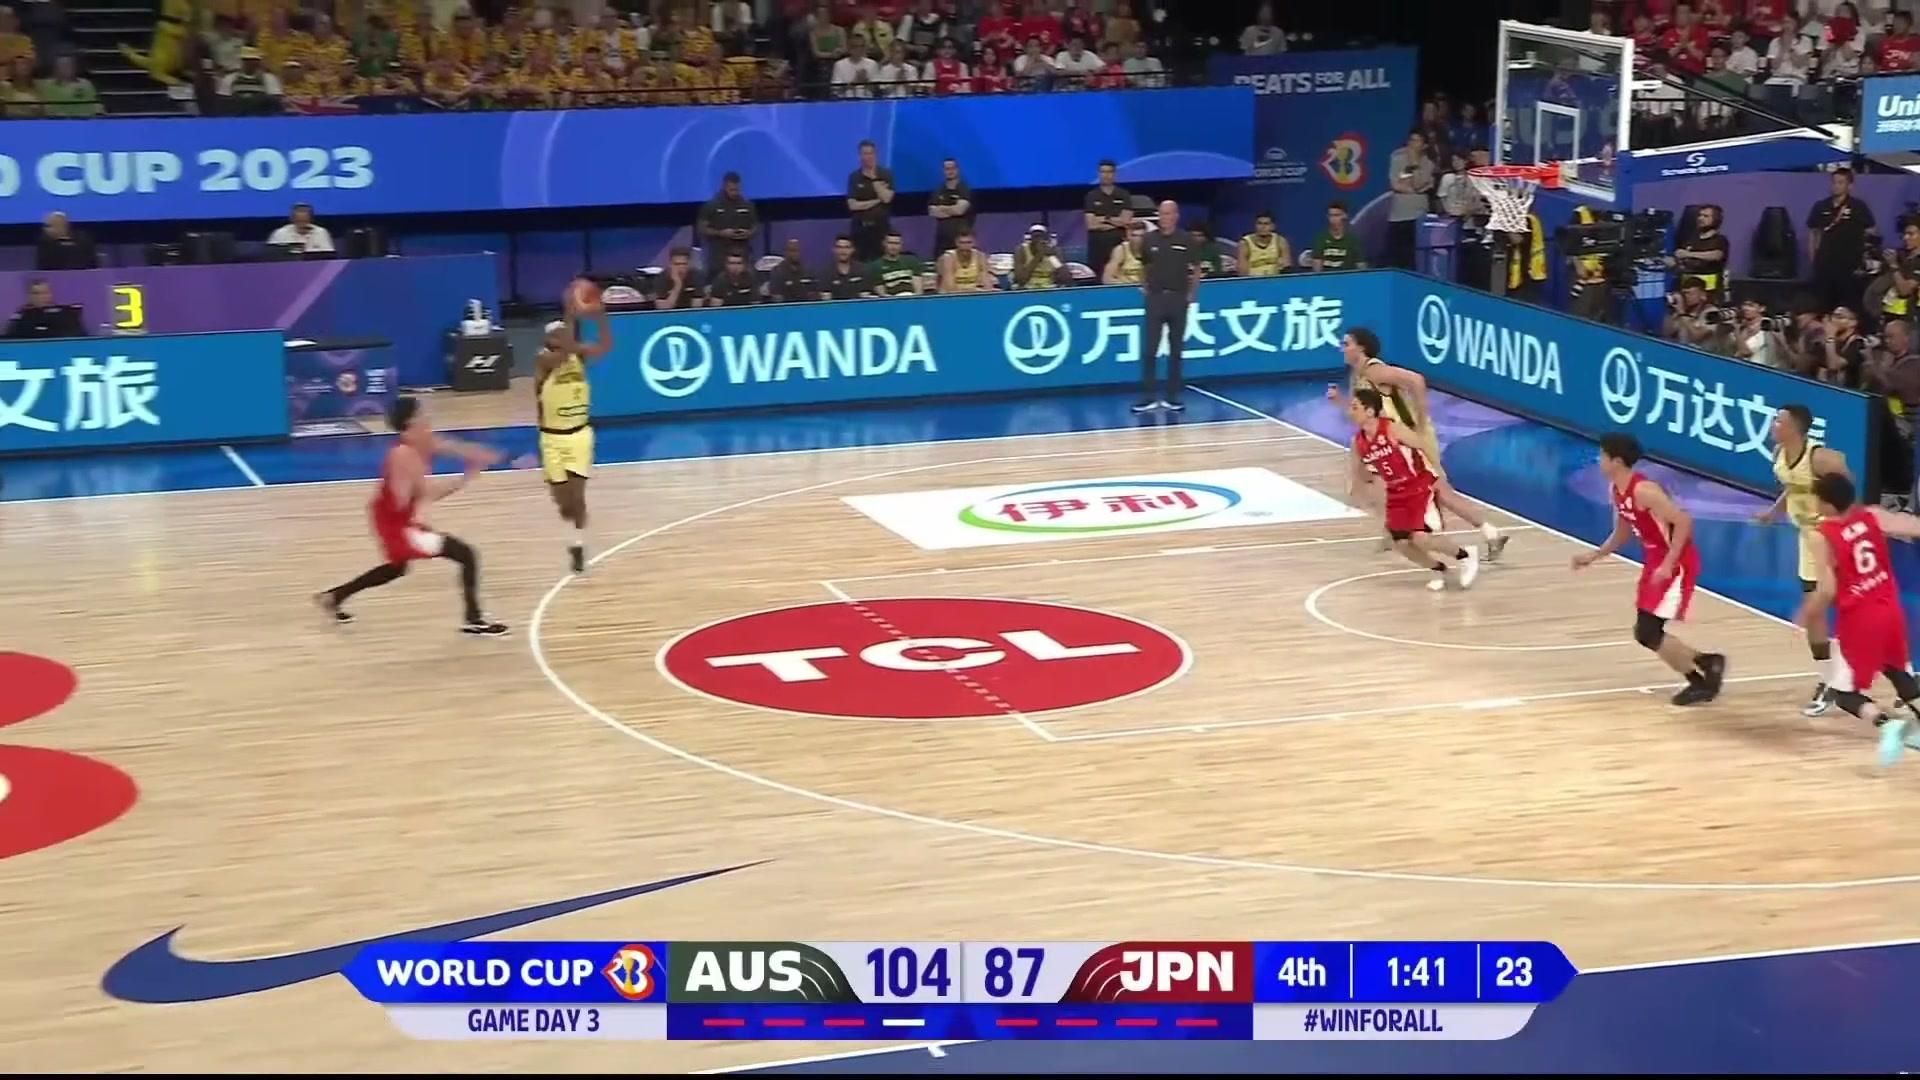no_foul: (343, 322, 620, 629)
